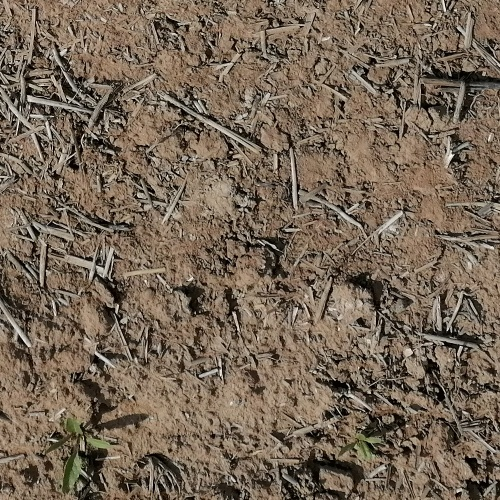beet: (47, 417, 111, 490), (338, 432, 382, 462)
